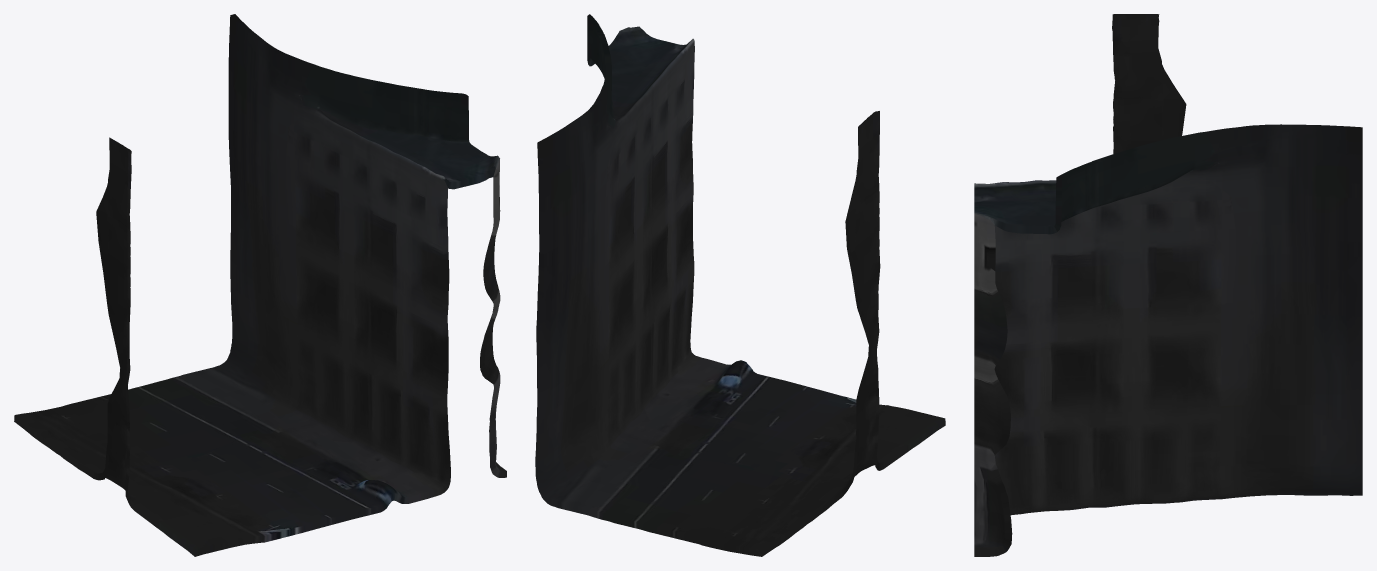
File: z20-167778-405231-h0-yup-uvflip-v3-world.glb
3 views of the same model, side by side, from view 1: azimuth 30°, elevation 25°; view 2: azimuth 150°, elevation 25°; view 3: azimuth 270°, elevation 25° (orthographic). The views are drawn at different scales.
Size of the model in its own units: 30.2 by 33.24 by 30.32.
1 material, 1 textured.
